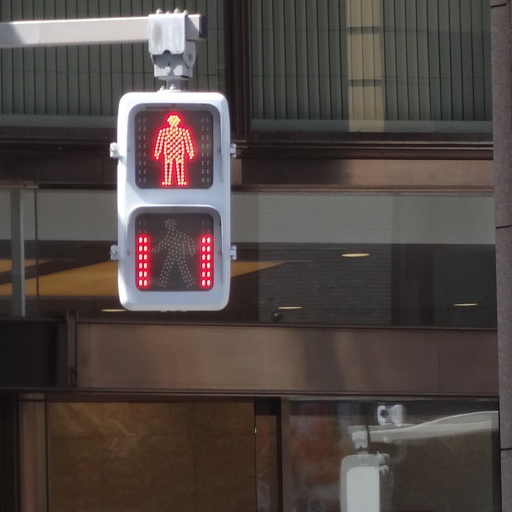Pedestrian_Signal_Red: (116, 82, 226, 302)
